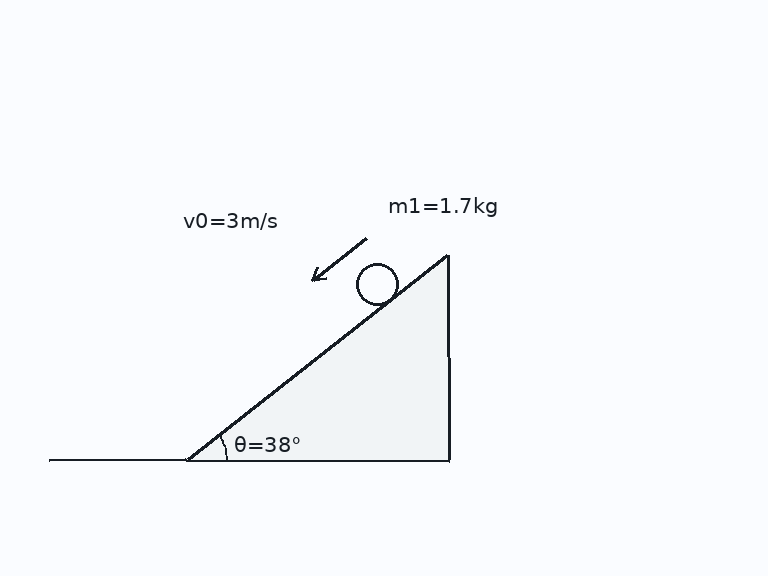ball: (354, 261, 400, 307)
ramp: (185, 253, 450, 461)
